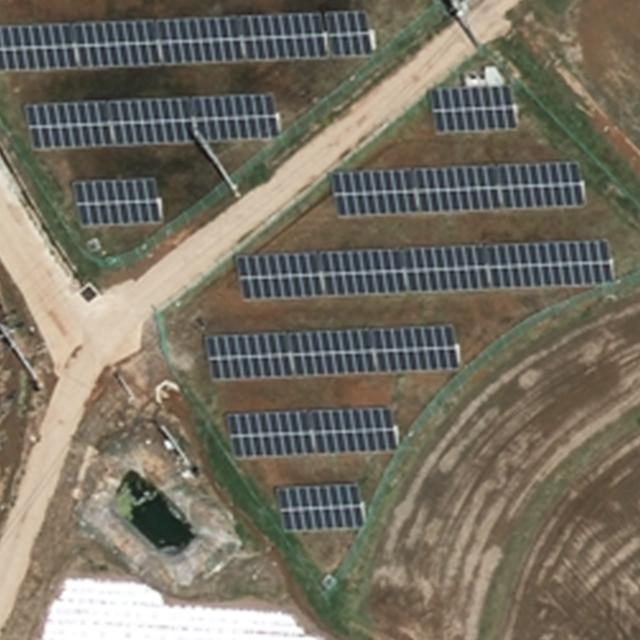panel: (236, 235, 619, 303), (1, 10, 326, 75), (203, 318, 469, 383), (328, 158, 597, 220), (21, 89, 285, 152), (222, 403, 400, 458), (70, 172, 167, 230), (426, 81, 523, 137), (274, 480, 367, 536), (322, 6, 379, 61)
